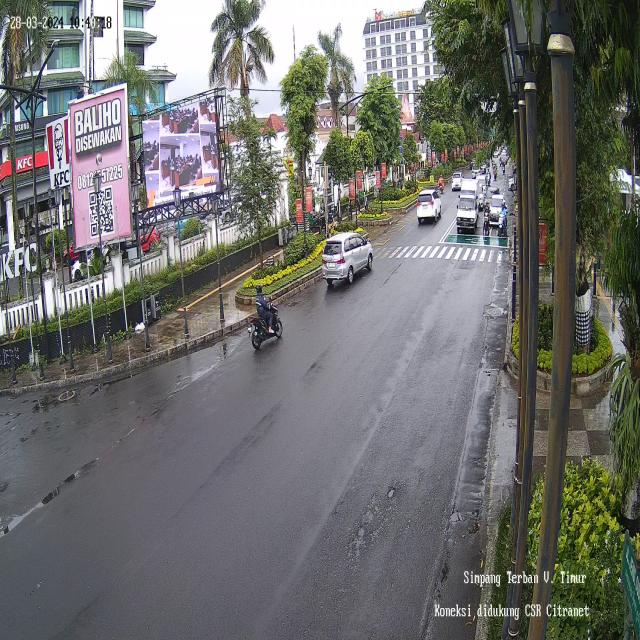car: (322, 232, 374, 285), (416, 190, 442, 224), (458, 194, 477, 231), (489, 193, 507, 225), (450, 171, 464, 192)
motorcycle: (247, 282, 282, 347), (499, 201, 507, 237), (483, 201, 490, 234), (438, 173, 444, 192)
